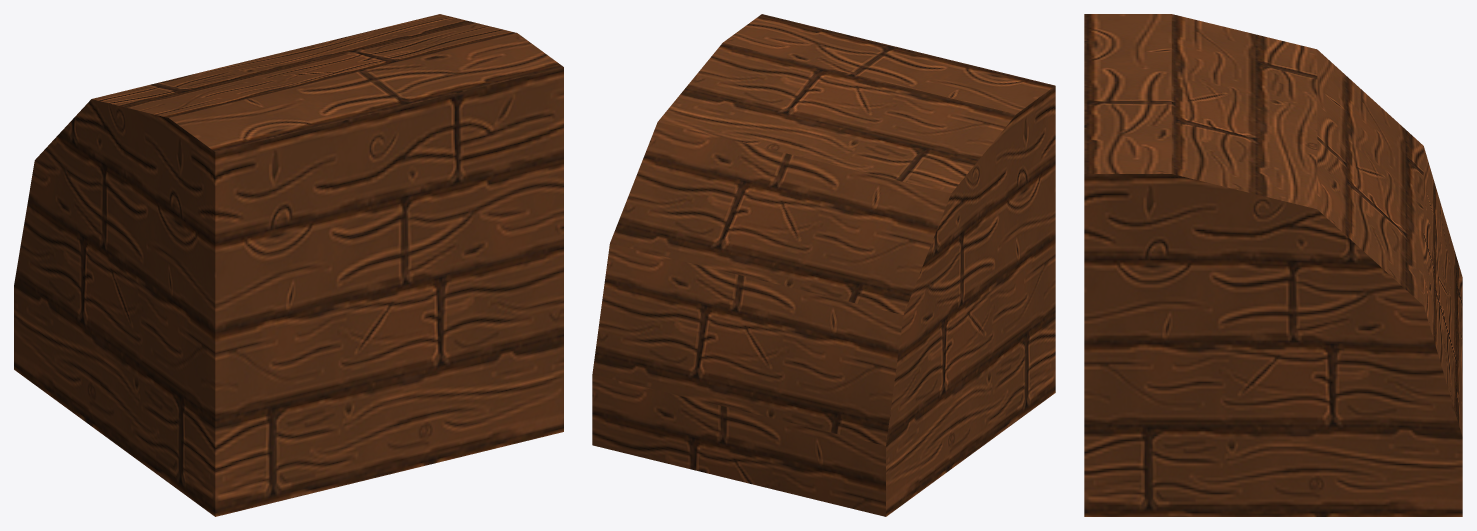
File: POL0410013.fbx
The picture shows the model from 3 angles, left to right: view 1: azimuth 30°, elevation 25°; view 2: azimuth 150°, elevation 25°; view 3: azimuth 270°, elevation 25°; orthographic projection. The views are drawn at different scales.
Parts seen in each view (by area): view 1: smPOL0410013; view 2: smPOL0410013; view 3: smPOL0410013.
Part boxes in pixels (<box>): smPOL0410013: <box>14,14,563,516</box>; smPOL0410013: <box>592,14,1055,516</box>; smPOL0410013: <box>1084,14,1462,516</box>.
Size of the model in its own units: 161 by 161 by 161.
Materials: 1 (1 with a texture image).
